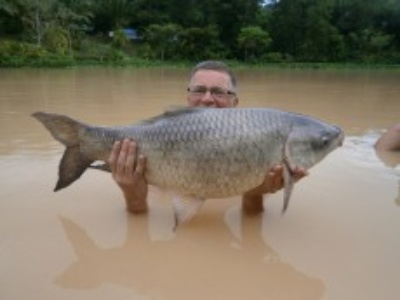rohu: (29, 101, 350, 206)
